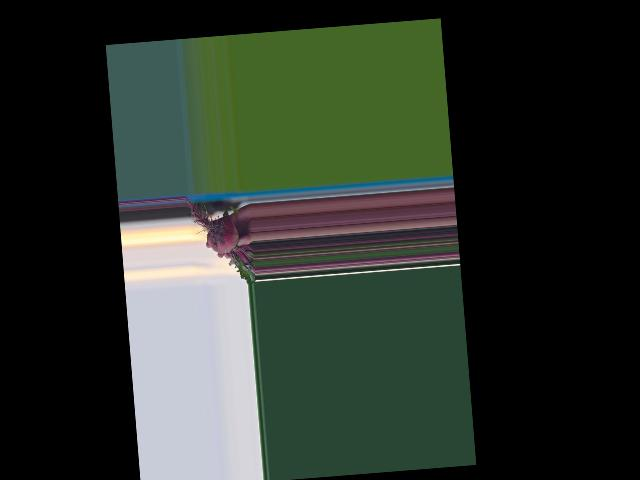beet: (185, 192, 255, 288)
